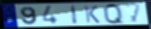4: (42, 4, 59, 26)
7: (126, 4, 143, 24)
9: (19, 6, 38, 26)
I: (70, 4, 79, 25)
K: (83, 5, 102, 24)
Q: (102, 3, 126, 25)
